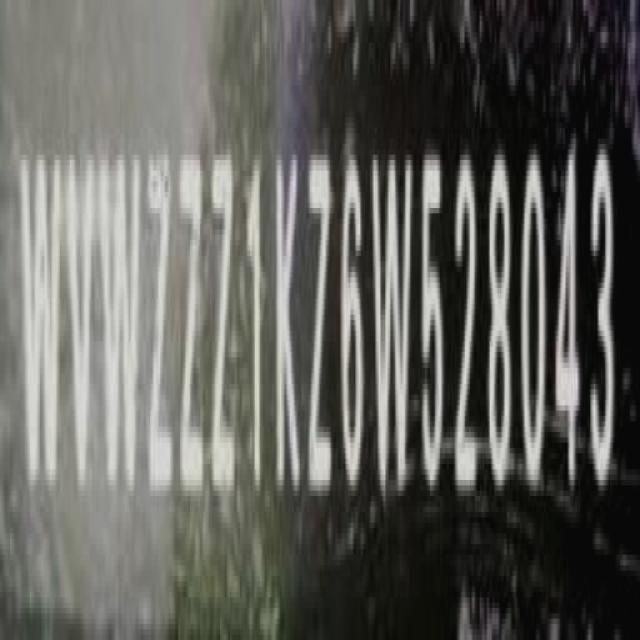0: (520, 144, 548, 496)
1: (244, 140, 270, 508)
2: (449, 139, 481, 503)
3: (592, 143, 620, 492)
4: (551, 141, 582, 494)
5: (418, 138, 448, 503)
6: (339, 141, 368, 508)
8: (486, 143, 514, 498)
K: (271, 136, 303, 510)
V: (66, 152, 95, 496)
W: (371, 138, 416, 504), (22, 143, 65, 506), (102, 140, 144, 509)
Z: (306, 139, 337, 506), (146, 148, 177, 502), (210, 144, 240, 508), (180, 141, 208, 508)
